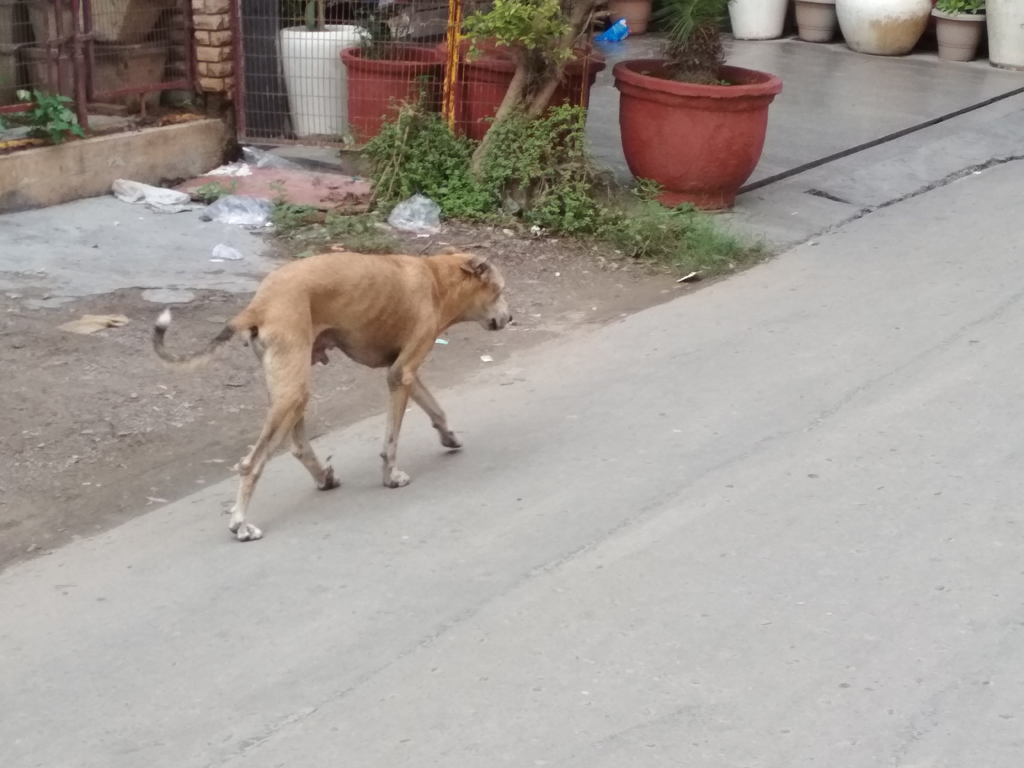dog: (154, 251, 516, 539)
